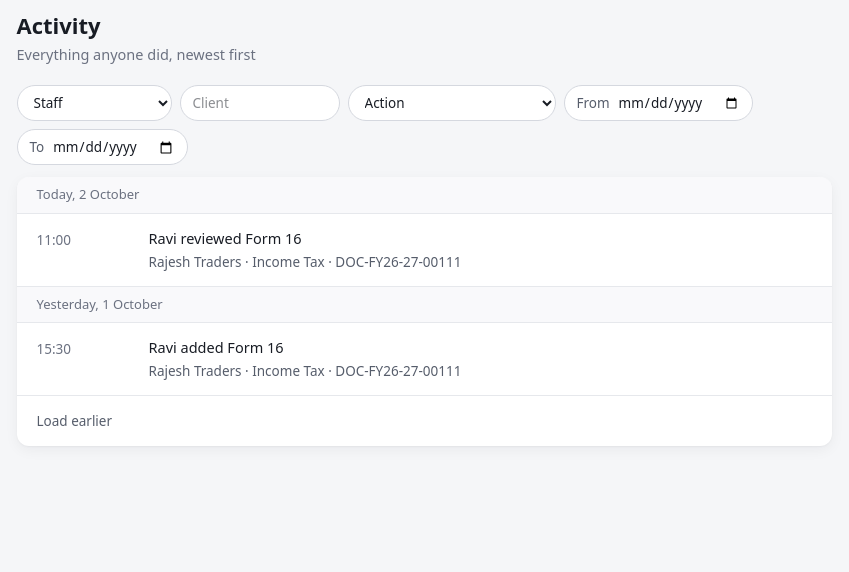
Test: ActivityView (AC-5) › shows day headings, time, sentence and detail; the sentence links; Load earlier appends the next page
This screenshot has width=849, height=572.
Expected: the text "Everything anyone did, newest first" is shown, [16, 44, 256, 65]
Expected: the text "11:00" is shown, [36, 231, 71, 249]
Click the button "Load earlier": (74, 421) [36, 411, 112, 432]
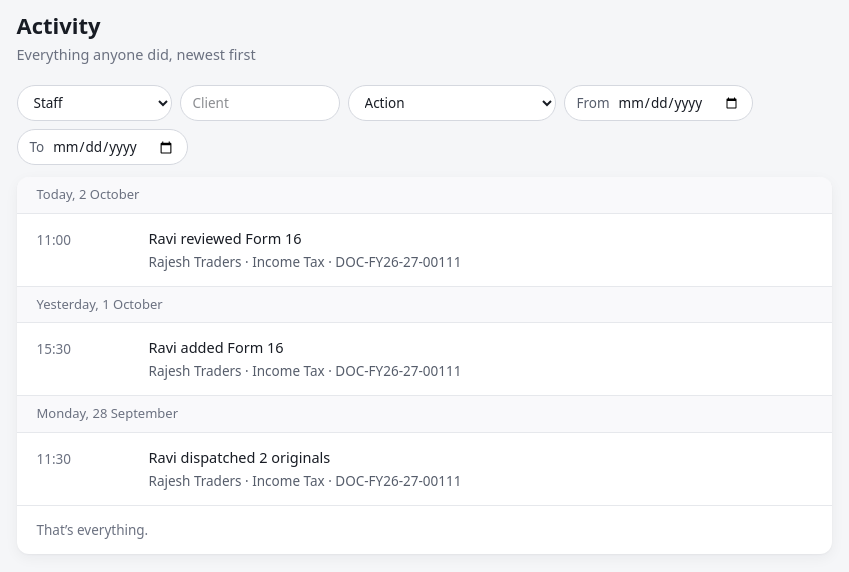
Expected: the element "Monday, 28 September" shows "Ravi dispatched 2 originals", [148, 447, 330, 467]
Expected: the button "Load earlier" is gone
